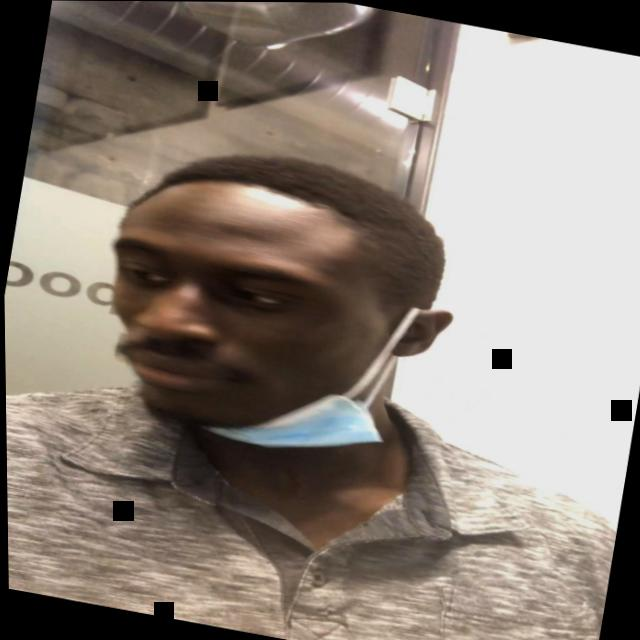NO-Mask: (82, 175, 378, 450)
